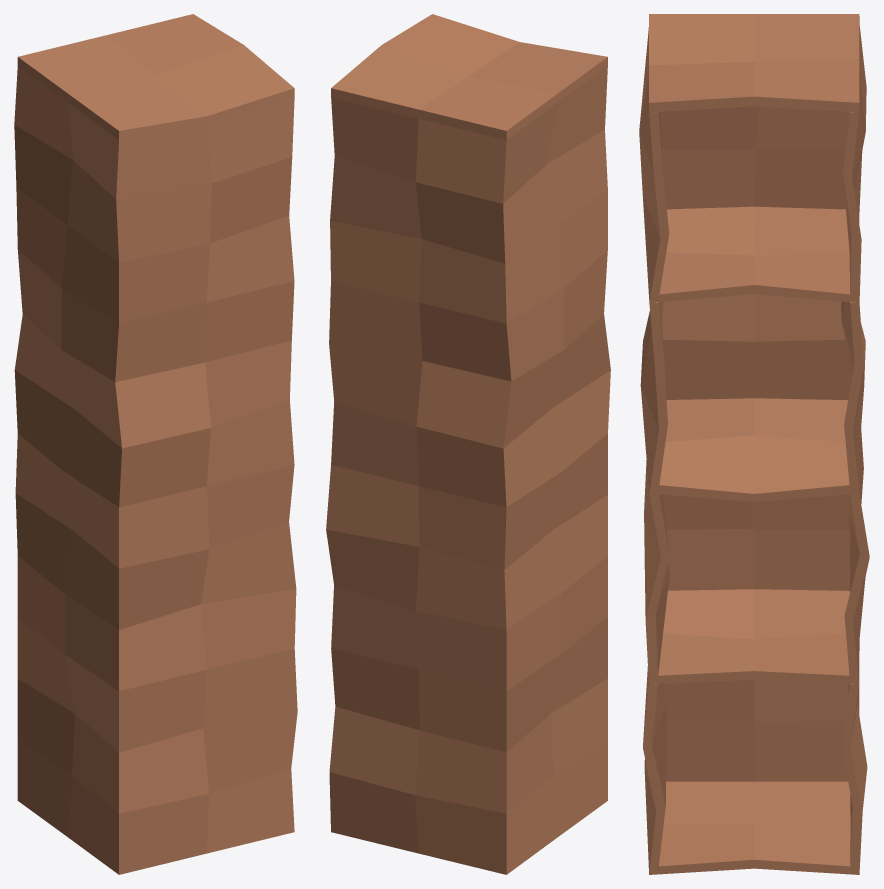
The model's file is shelf_big_2.fbx.
3 renders of one model, left to right at view 1: azimuth 30°, elevation 25°; view 2: azimuth 150°, elevation 25°; view 3: azimuth 270°, elevation 25°, orthographic. The views are drawn at different scales.
Visible parts, largest first — view 1: Shelf; view 2: Shelf; view 3: Shelf.
Part boxes in pixels (x1,y1,x2,y2): Shelf: [14, 14, 297, 874]; Shelf: [326, 14, 610, 874]; Shelf: [639, 14, 869, 874].
Bounding box in the file's own units: 125 × 490 × 132.
